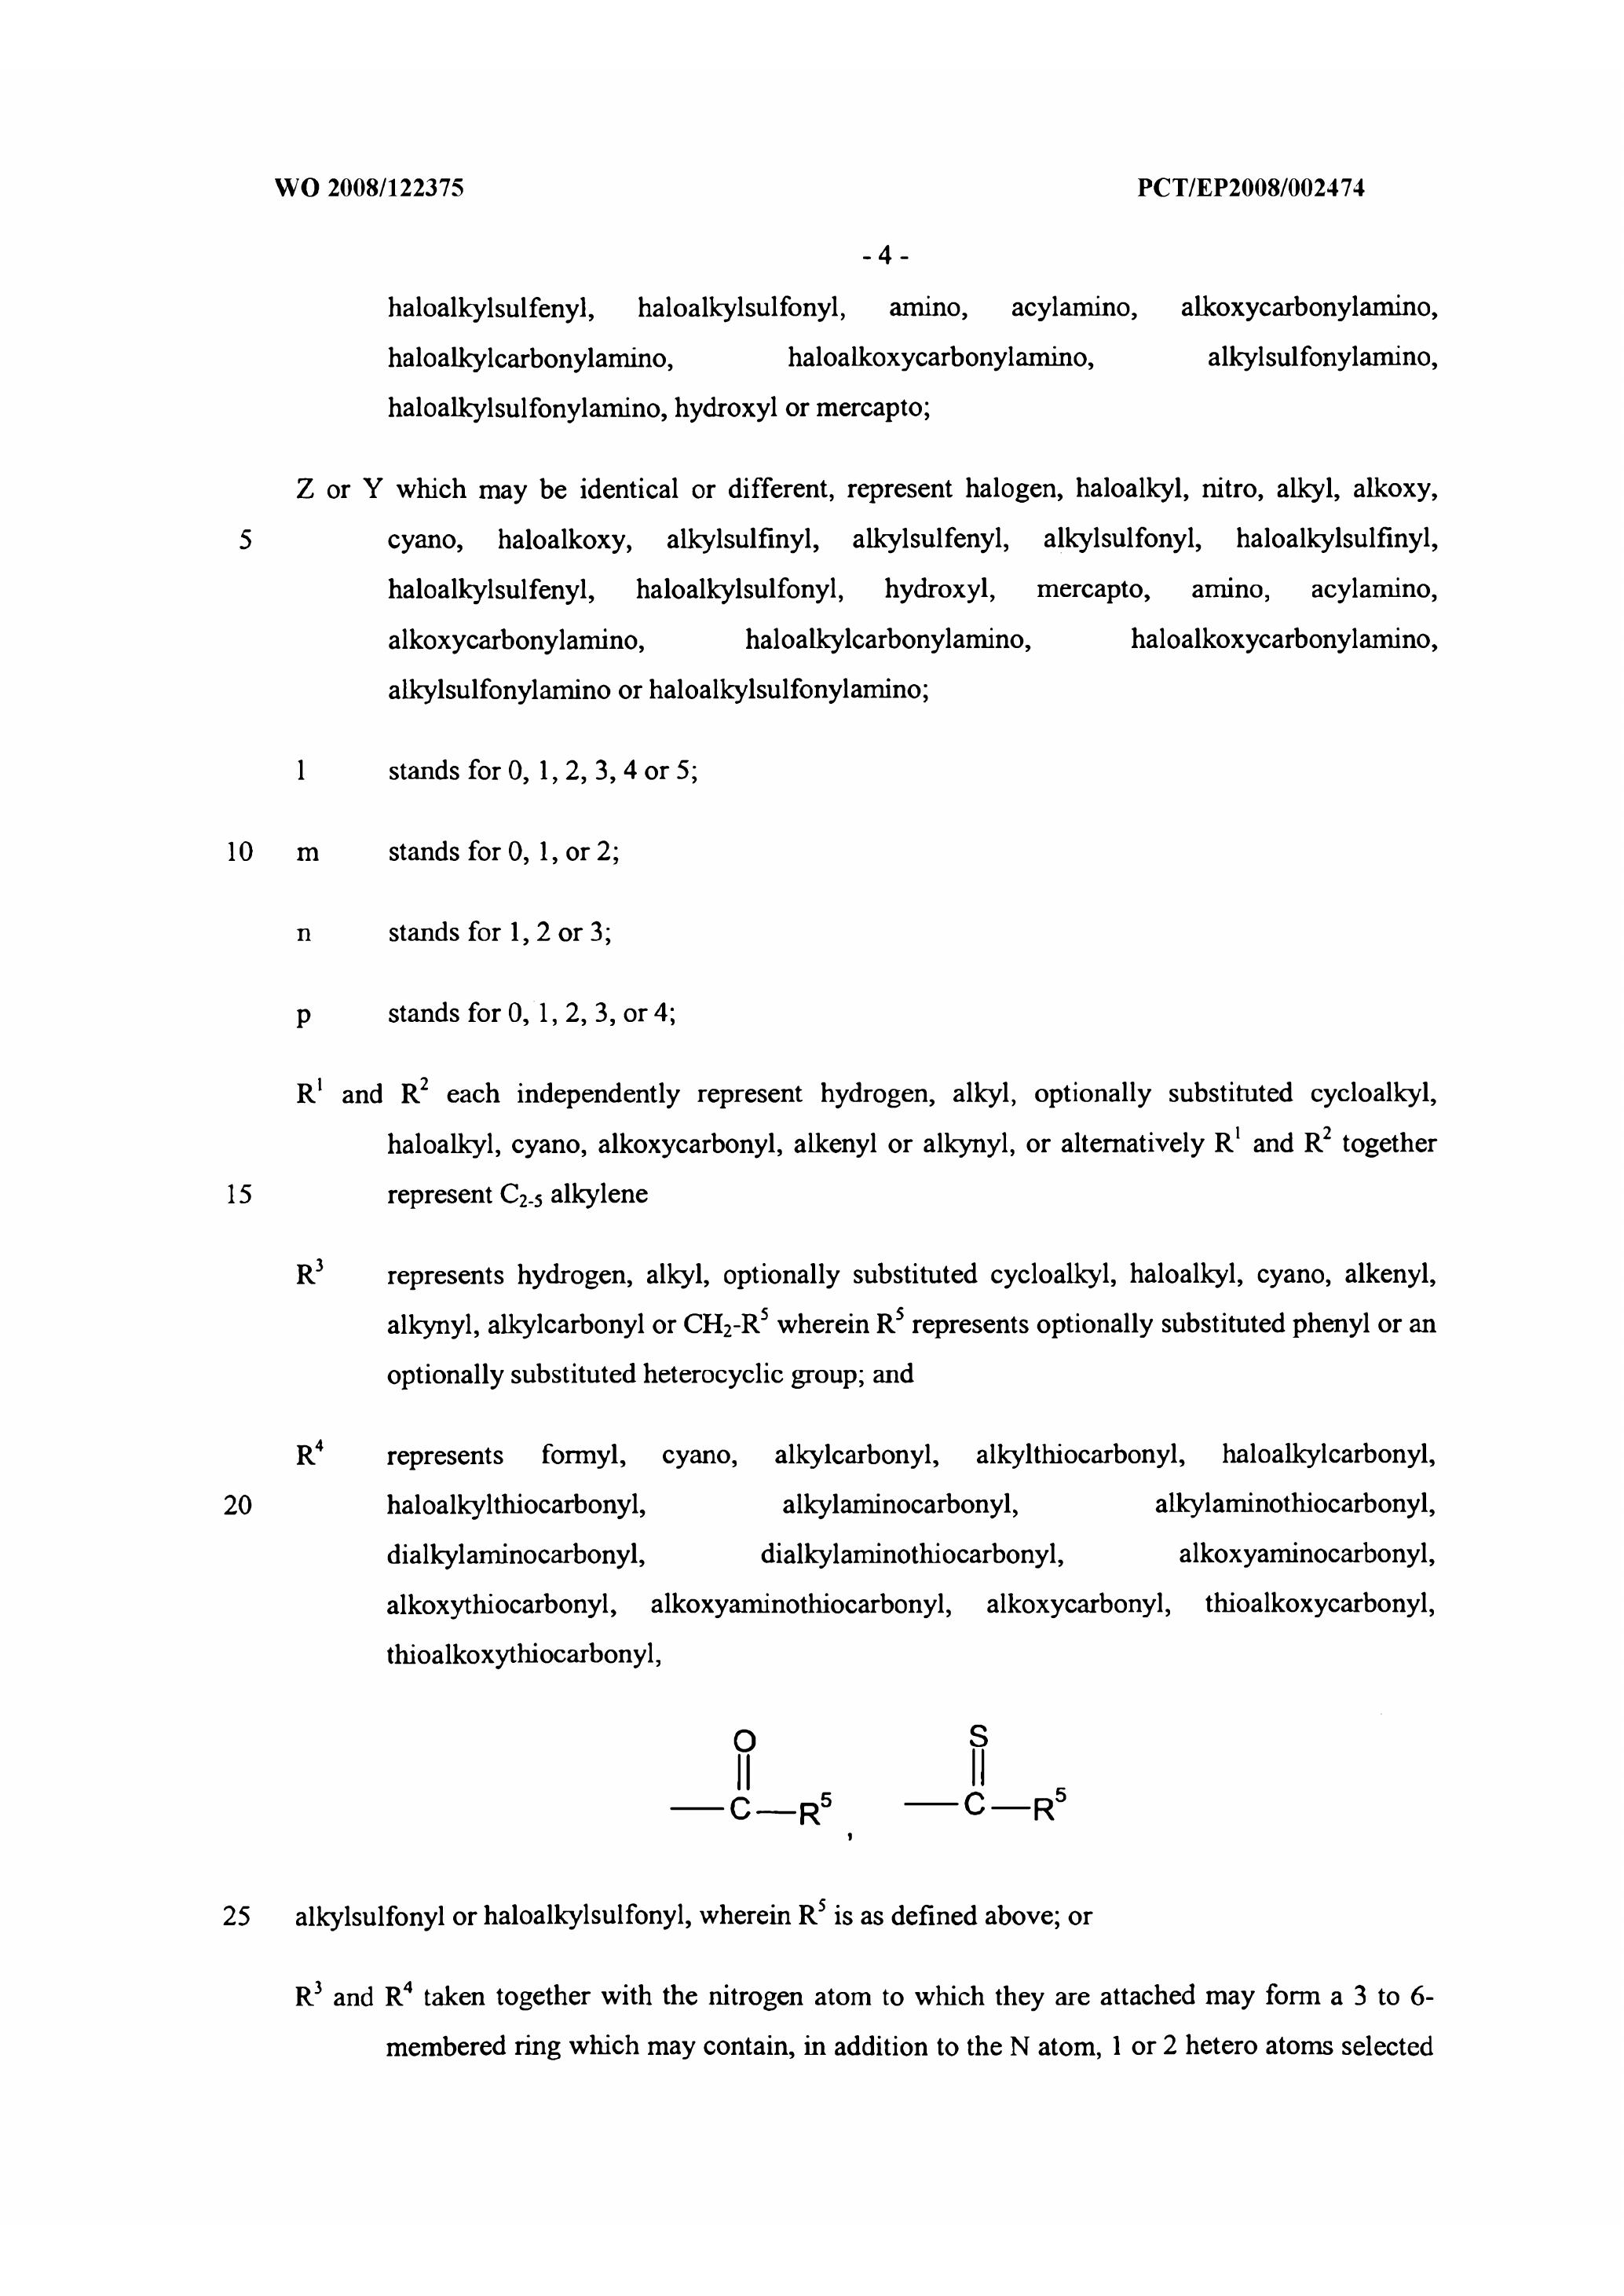substitutes: (260, 1401, 1482, 2076)
